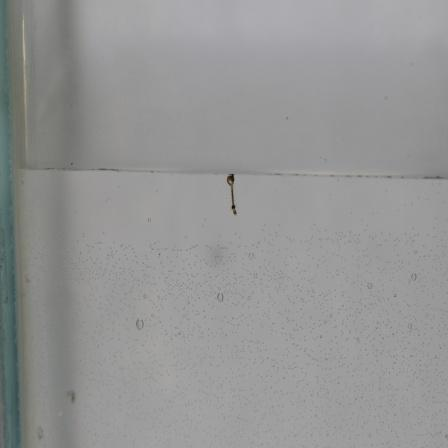Jentik-Nyamuk: (222, 168, 240, 218)
